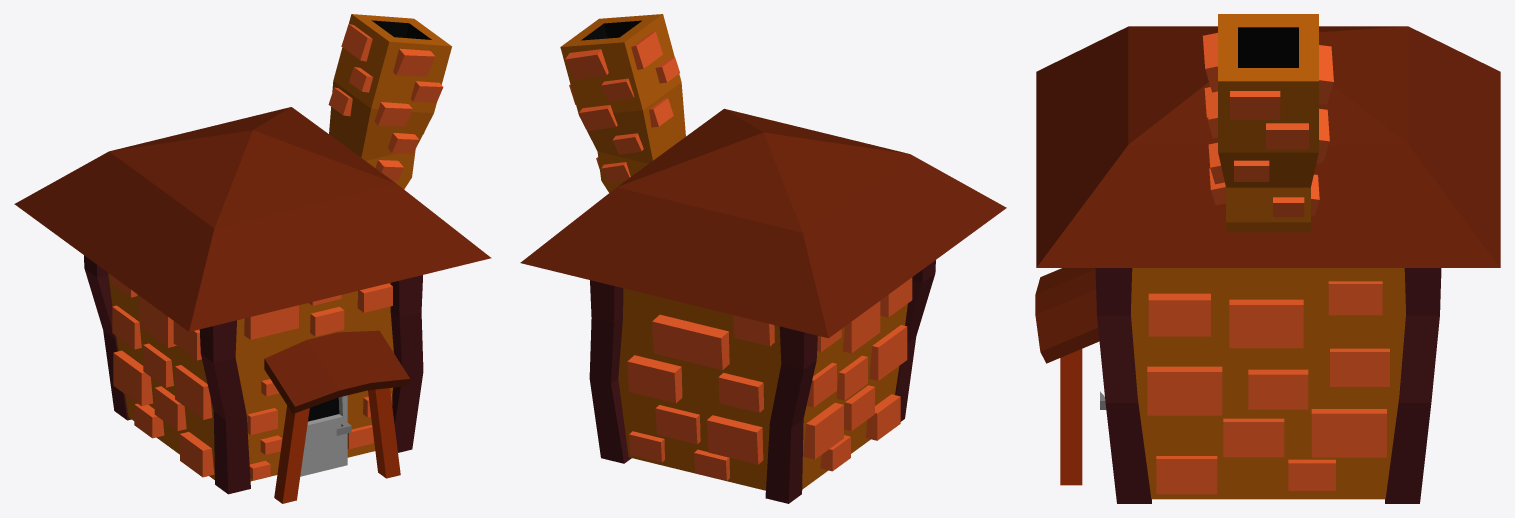
The model's file is Casinhahuminde.fbx.
3 views of the same model, side by side, from view 1: azimuth 30°, elevation 25°; view 2: azimuth 150°, elevation 25°; view 3: azimuth 270°, elevation 25° (orthographic). The views are drawn at different scales.
Visible parts, largest first — view 1: Casinhahuminde; view 2: Casinhahuminde; view 3: Casinhahuminde.
Boxes of the visible parts, left/top/right/bottom form: Casinhahuminde: left=14, top=14, right=491, bottom=503; Casinhahuminde: left=520, top=14, right=1006, bottom=503; Casinhahuminde: left=1035, top=14, right=1500, bottom=503.
Bounding box in the file's own units: 827 × 894 × 750.
